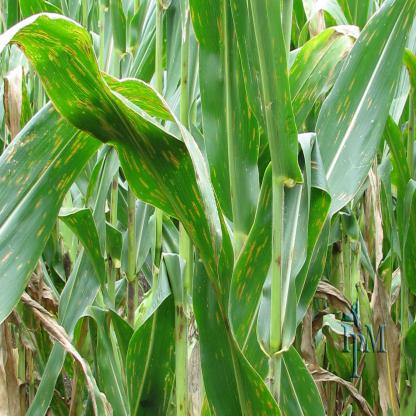Corn Gray leaf spot: (5, 4, 239, 297), (312, 2, 416, 241), (0, 99, 109, 308)
